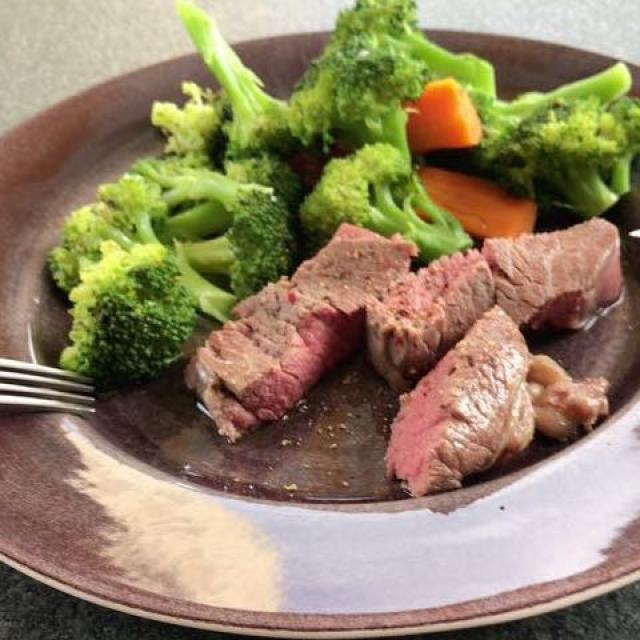beef-sirloin-steak: (206, 210, 628, 498)
broccoli: (44, 21, 639, 370)
carrot-raw: (407, 98, 530, 246)
